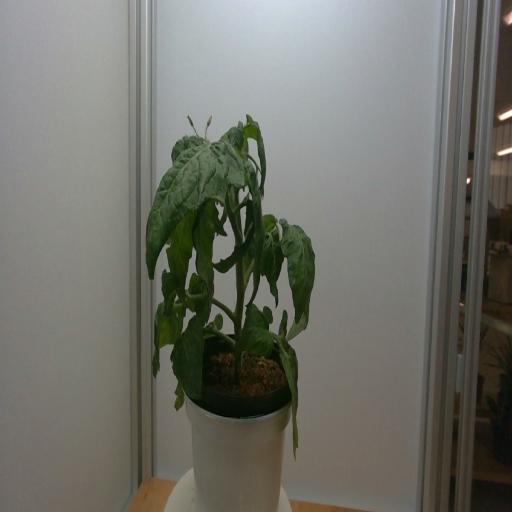Tomato-Leaves-Cupboard-: (141, 139, 217, 282), (195, 188, 226, 322), (282, 220, 318, 329), (240, 159, 265, 307), (168, 320, 207, 404), (278, 346, 306, 462), (165, 200, 193, 311), (150, 295, 184, 380), (212, 218, 258, 271), (242, 301, 277, 361), (248, 113, 270, 196), (262, 237, 285, 311), (287, 295, 311, 348), (220, 136, 245, 186), (169, 133, 208, 156), (160, 271, 180, 315), (173, 374, 188, 415), (276, 313, 290, 347), (262, 207, 280, 227), (261, 304, 274, 328), (246, 196, 254, 226), (211, 313, 224, 331)
